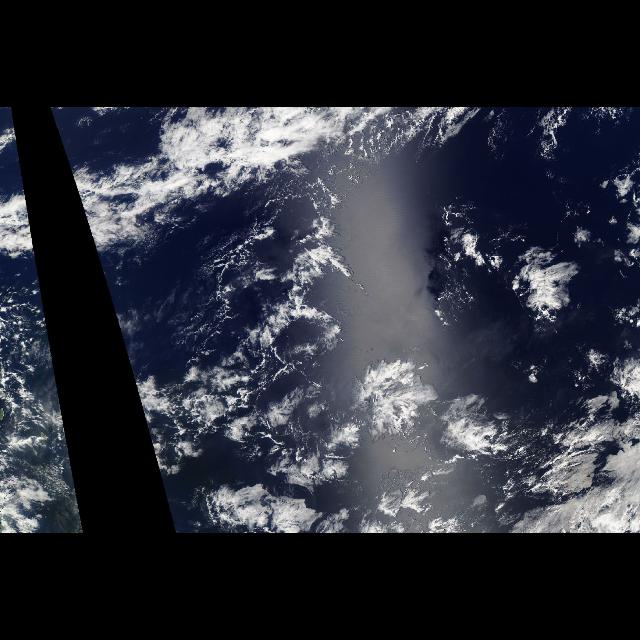Flower: (245, 183, 639, 531)
